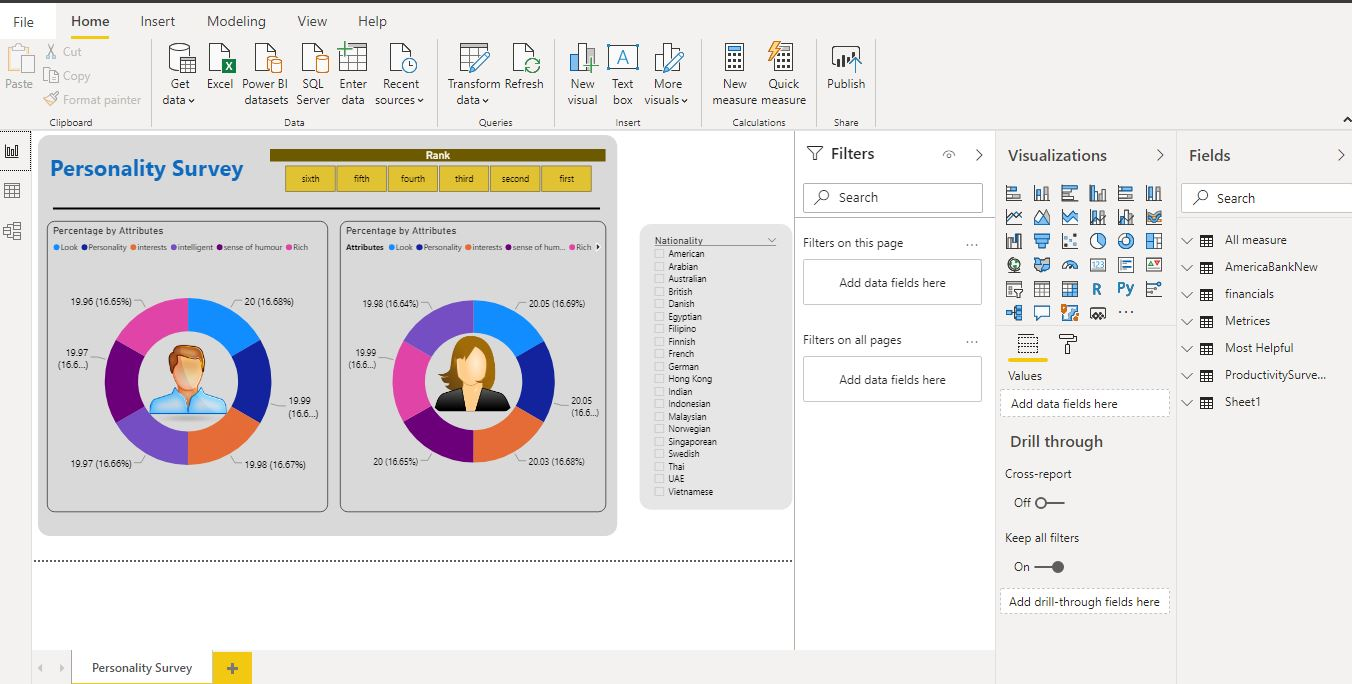

This screenshot's page, from the dashboard's own definition file:
{"tool":"powerbi","page":{"name":"Personality Survey","canvas":[1280,720],"ordinal":0},"visuals":[{"type":"basicShape","box":[0,0,992.8,687],"z":0},{"type":"basicShape","box":[1018,151.2,262,490.5],"z":1000},{"type":"textbox","box":[25.2,30.2,349.4,79],"z":2000},{"type":"slicer","fields":{"Values":["Sheet1.Nationality"]},"box":[1033.1,168,230.1,455.2],"z":3000},{"type":"slicer","title":"Rank","fields":{"Values":["Sheet1.Rank"]},"box":[399.8,30.2,564.4,79],"z":4000},{"type":"donutChart","fields":{"Y":["Sum(Sheet1.Percentage)"],"Category":["Sheet1.Attributes"]},"box":[25.2,151.2,472,488.8],"z":5000},{"type":"donutChart","fields":{"Y":["Sum(Sheet1.Percentage)"],"Category":["Sheet1.Attributes"]},"box":[517.4,151.2,446.8,488.8],"z":6000},{"type":"image","box":[191.5,344.4,141.1,161.3],"z":7000},{"type":"image","box":[668.6,329.2,142.8,156.2],"z":8000},{"type":"basicShape","box":[25.2,109.2,939,42],"z":9000}]}

Visuals, with their boxes on the page's 1280x720 design canvas (x1, y1, x2, y2). These are canvas units, not pixel positions in the 1352x684 screenshot, which may show the page scaled, cropped or inside an application window:
basicShape: crop(0, 0, 993, 687)
basicShape: crop(1018, 151, 1280, 642)
textbox: crop(25, 30, 375, 109)
slicer - Sheet1.Nationality: crop(1033, 168, 1263, 623)
"Rank" slicer: crop(400, 30, 964, 109)
donutChart - Sum(Sheet1.Percentage) x Sheet1.Attributes: crop(25, 151, 497, 640)
donutChart - Sum(Sheet1.Percentage) x Sheet1.Attributes: crop(517, 151, 964, 640)
image: crop(192, 344, 333, 506)
image: crop(669, 329, 811, 485)
basicShape: crop(25, 109, 964, 151)
